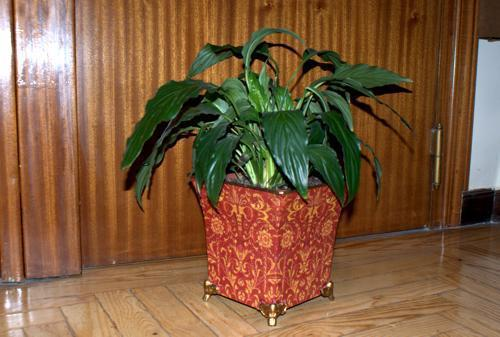Matera: (104, 4, 420, 322)
